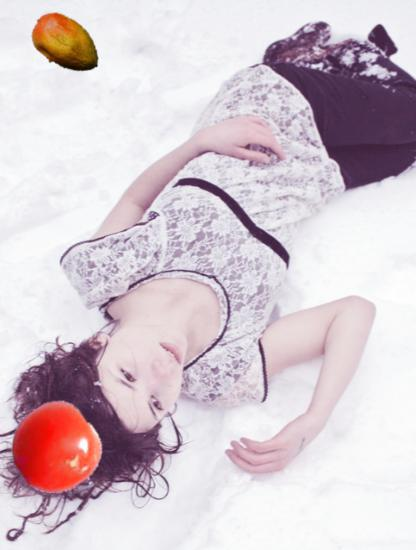Papaya: (28, 7, 104, 83)
Tomato: (11, 403, 102, 494)
